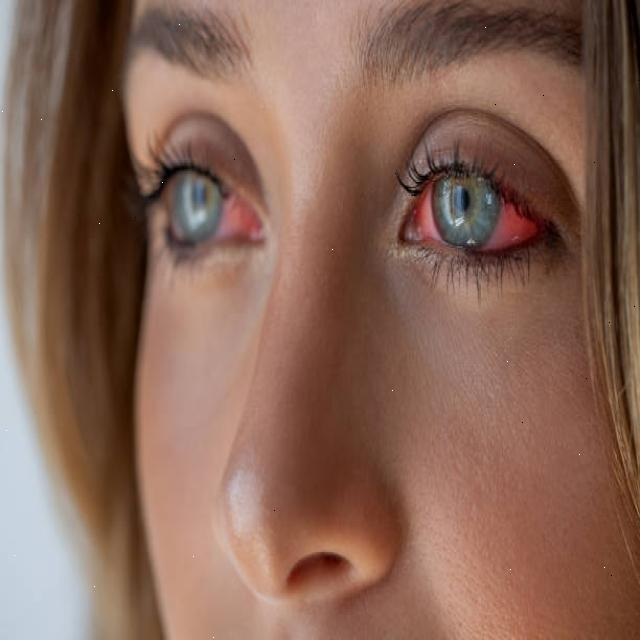Conjunctivitis: (404, 178, 550, 252)
